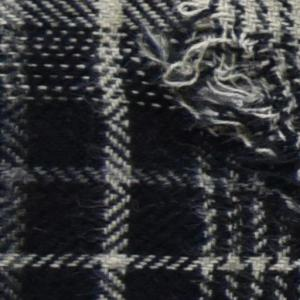Damage: (124, 1, 300, 232)
